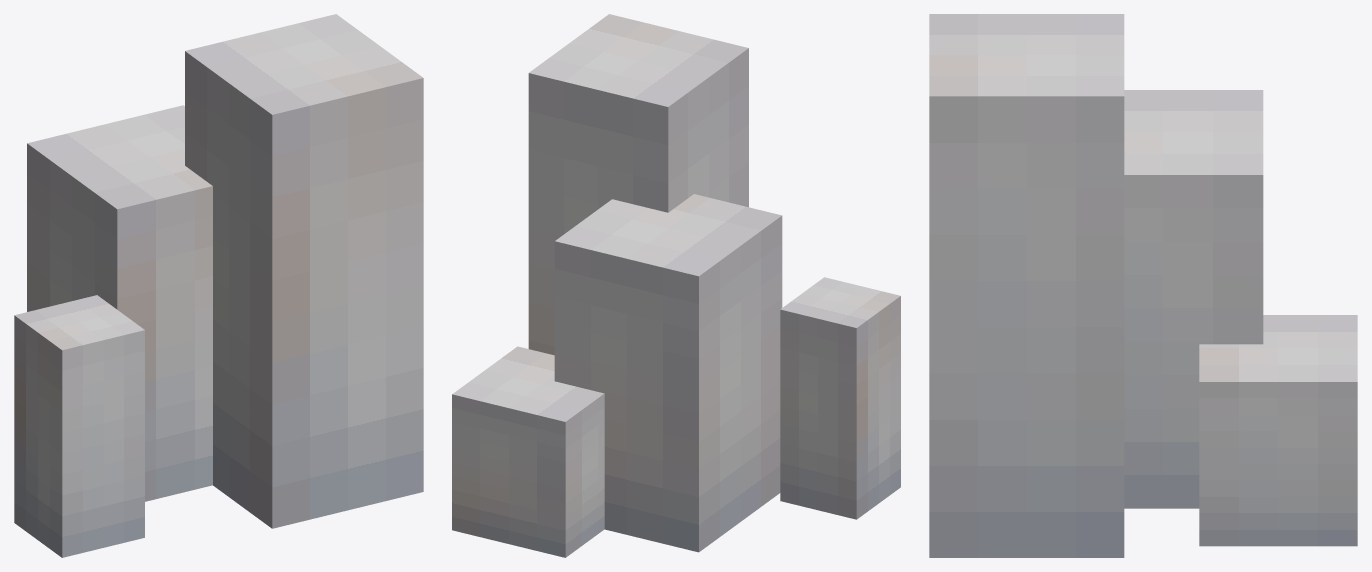
File: dolomite_crystal_four.obj
3 views of the same model, side by side, from view 1: azimuth 30°, elevation 25°; view 2: azimuth 150°, elevation 25°; view 3: azimuth 270°, elevation 25° (orthographic). The views are drawn at different scales.
Parts seen in each view (by area): view 1: Crystal5_Cube.008; view 2: Crystal5_Cube.008; view 3: Crystal5_Cube.008.
Boxes of the visible parts, x1=… form: Crystal5_Cube.008: x1=14, y1=14, x2=423, y2=557; Crystal5_Cube.008: x1=452, y1=14, x2=900, y2=557; Crystal5_Cube.008: x1=929, y1=14, x2=1357, y2=557.
Bounding box in the file's own units: 0.4231 × 0.494 × 0.4151.
